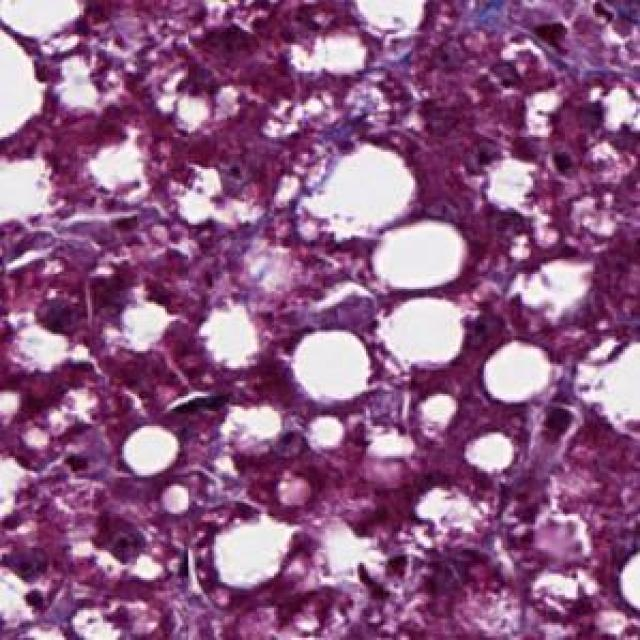steatosis: (278, 319, 381, 404), (374, 212, 471, 291), (477, 340, 561, 402)
